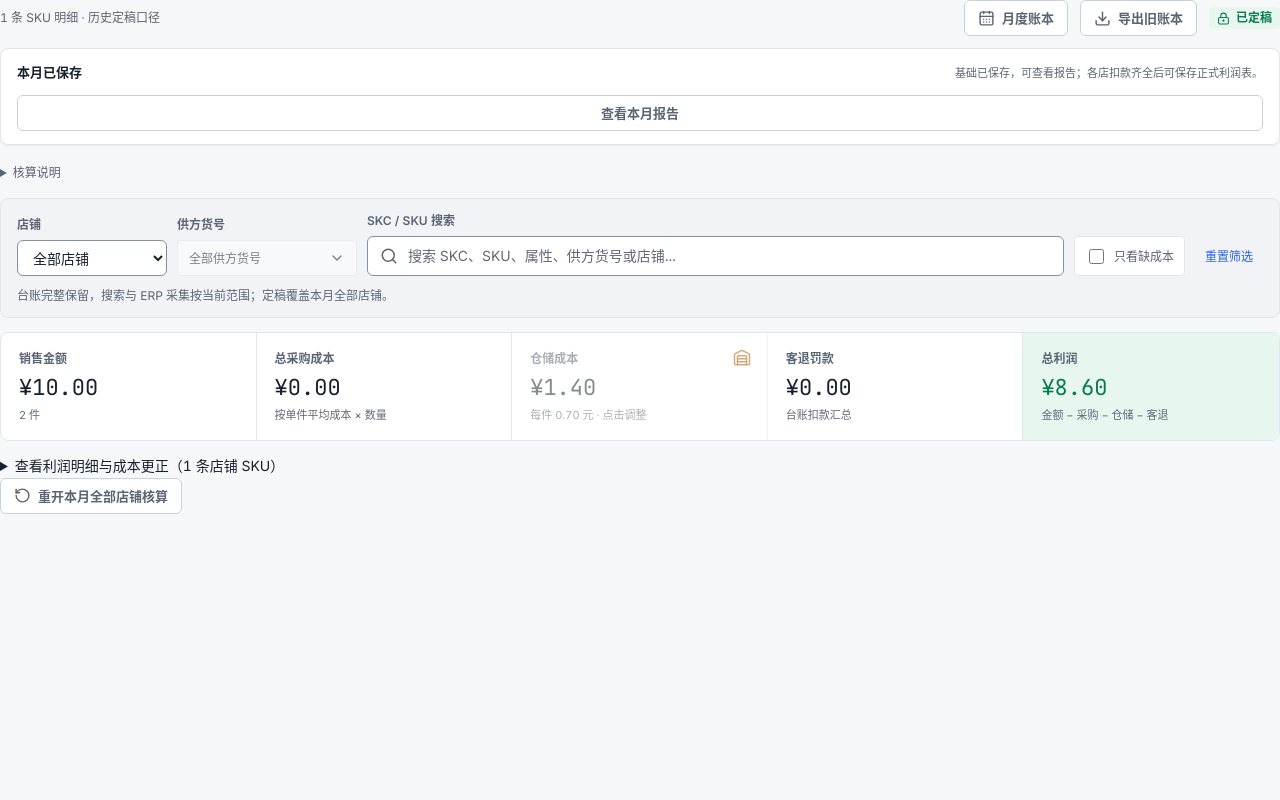
requires an explicit reopen confirmation and reason while details stay collapsed
Click the button "重开本月全部店铺核算".
click(91, 496)  # box [0, 478, 182, 514]
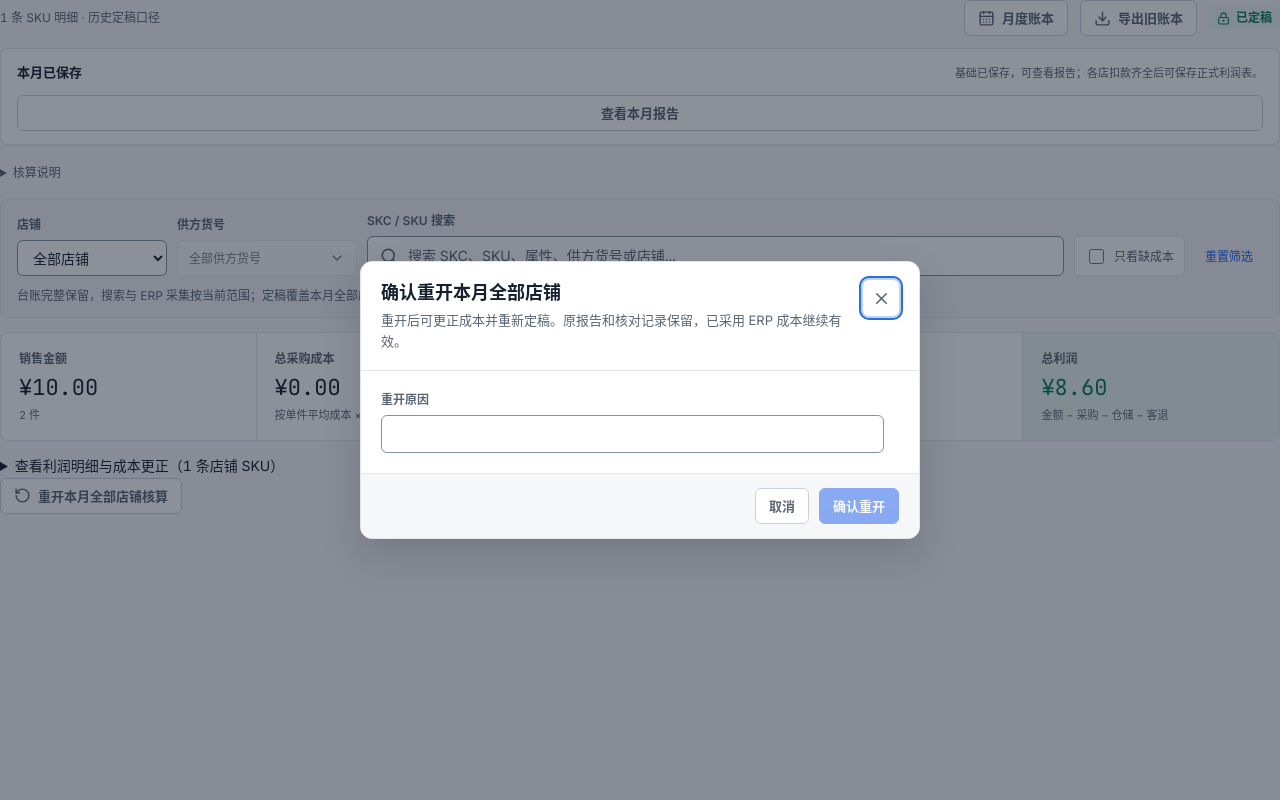
Check: the button "确认重开" is disabled, box [819, 488, 899, 524]
Click the button "取消".
click(782, 506)  # box [755, 488, 809, 524]
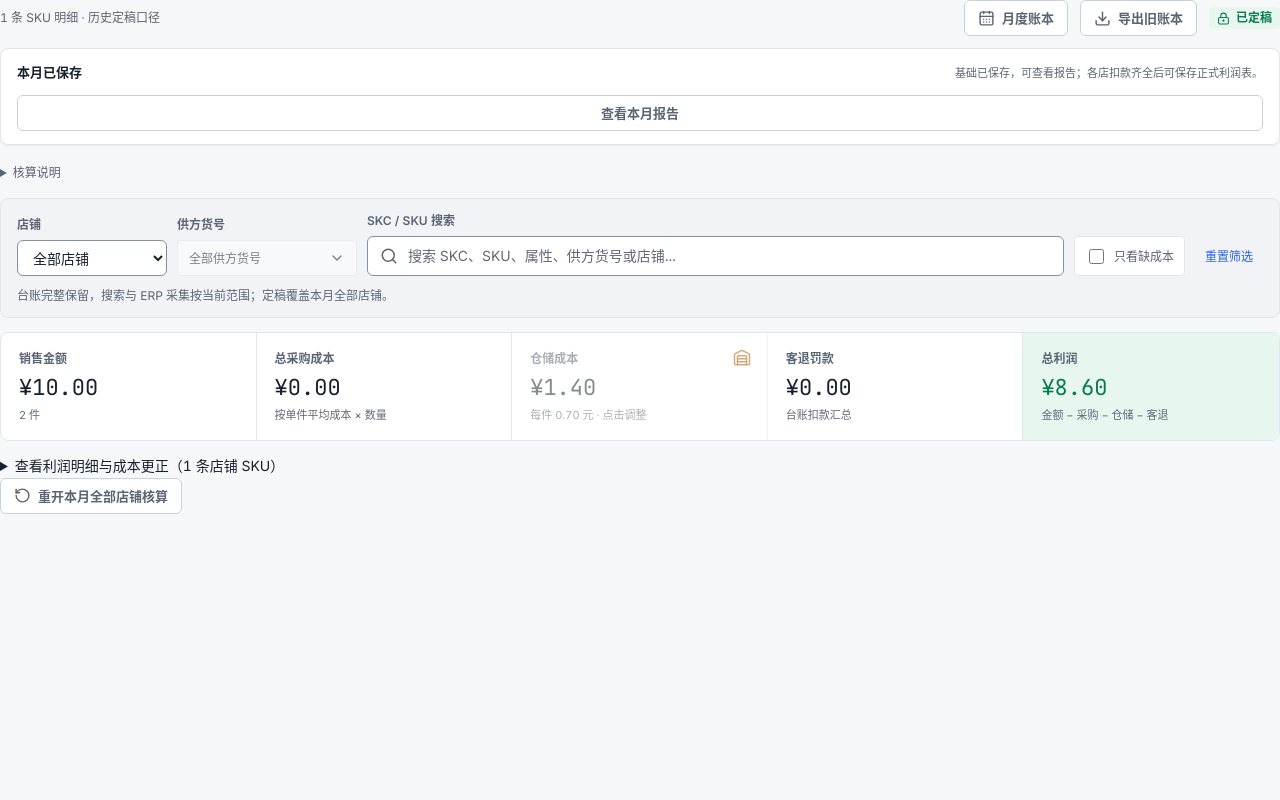
Click the button "重开本月全部店铺核算".
click(91, 496)  # box [0, 478, 182, 514]
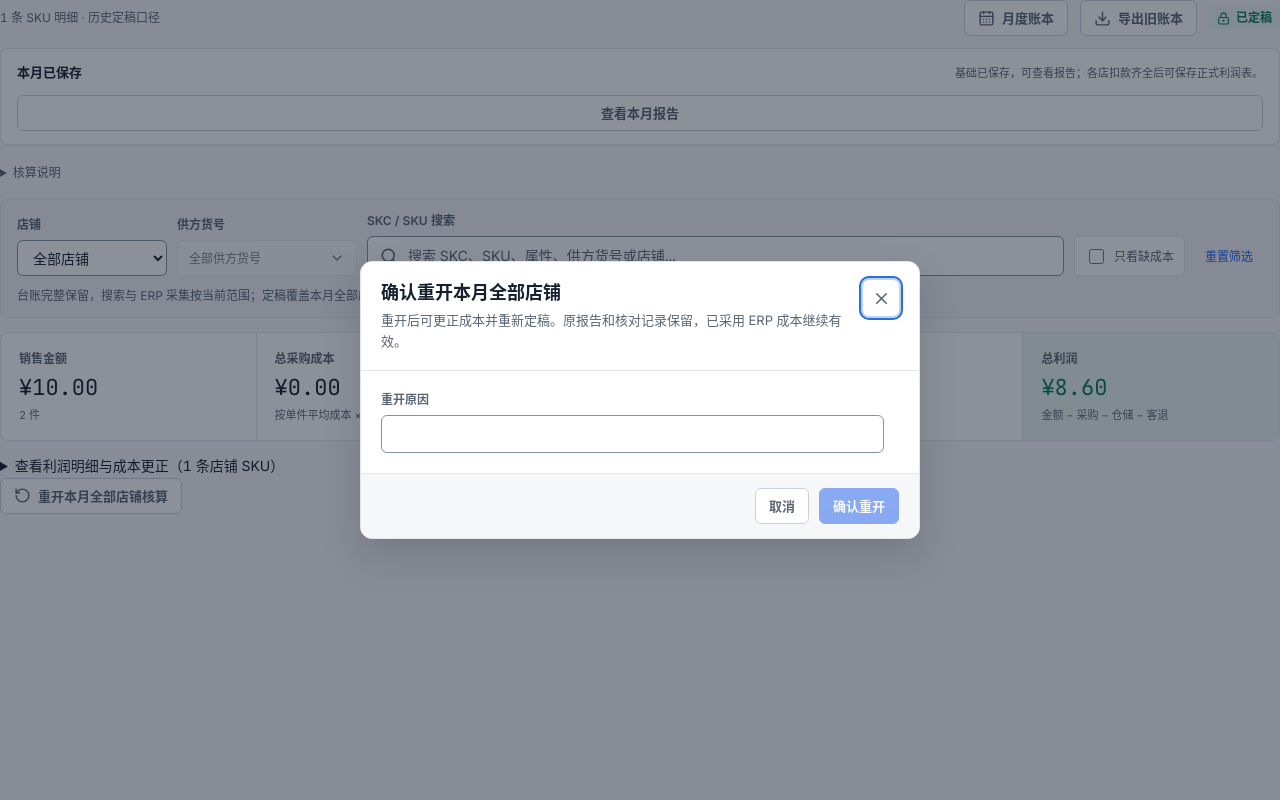
Type "人工成本复核" into the field labelled "重开原因".
click(632, 434); type("人工成本复核")  # box [381, 415, 884, 453]
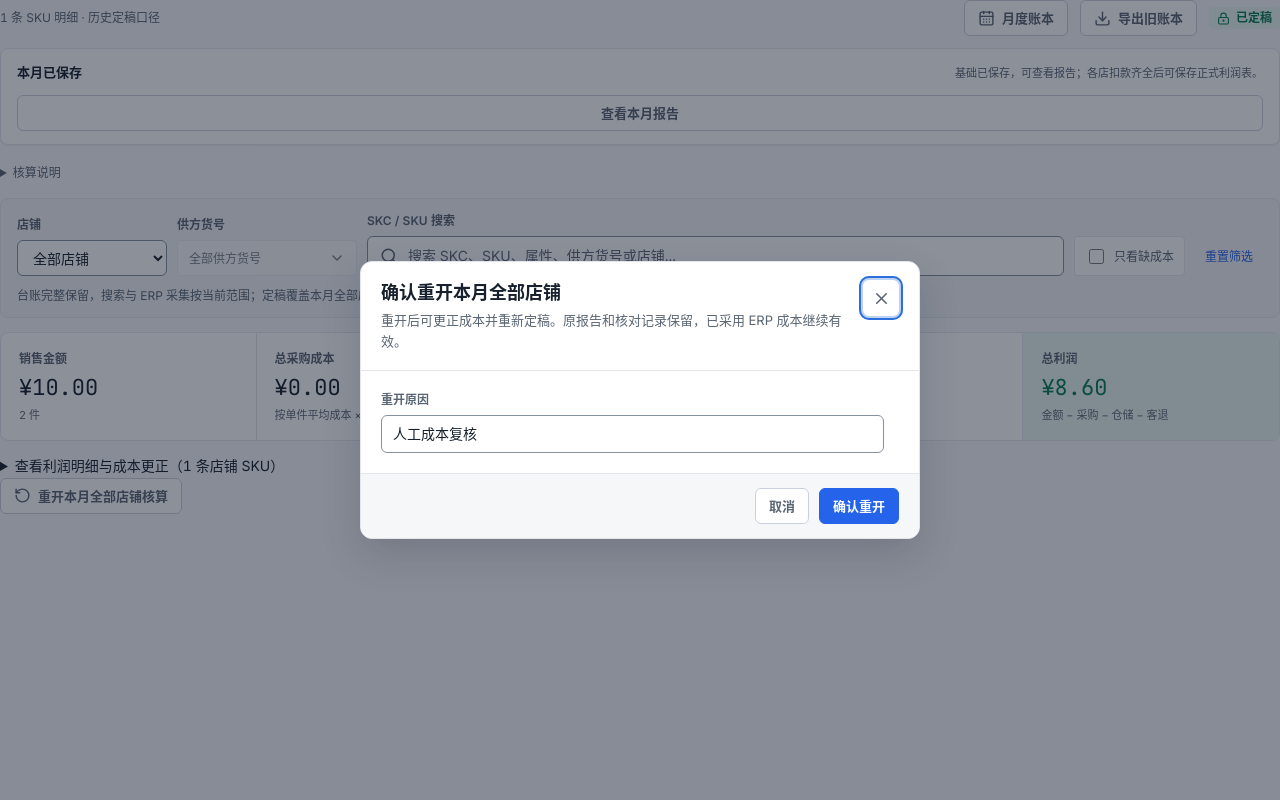
Click the button "确认重开".
click(859, 506)  # box [819, 488, 899, 524]
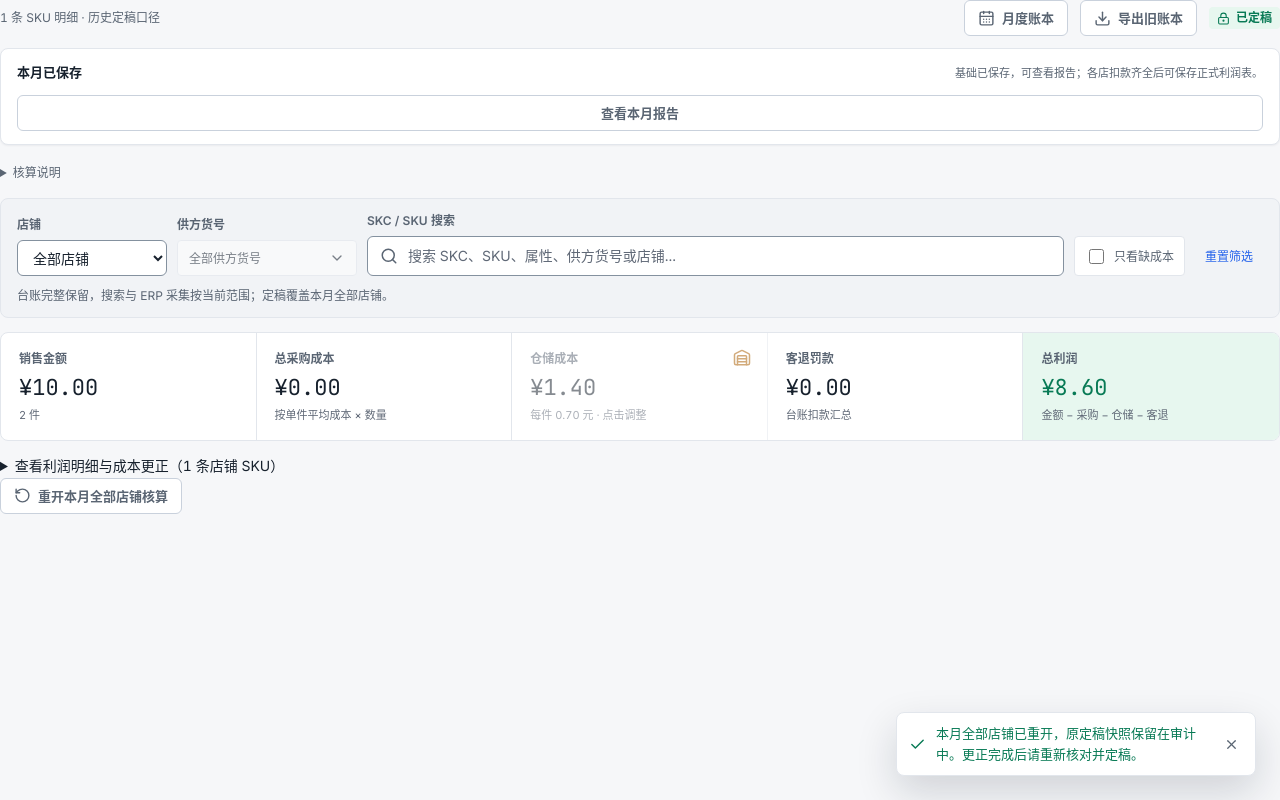
Check: the dialog is gone
